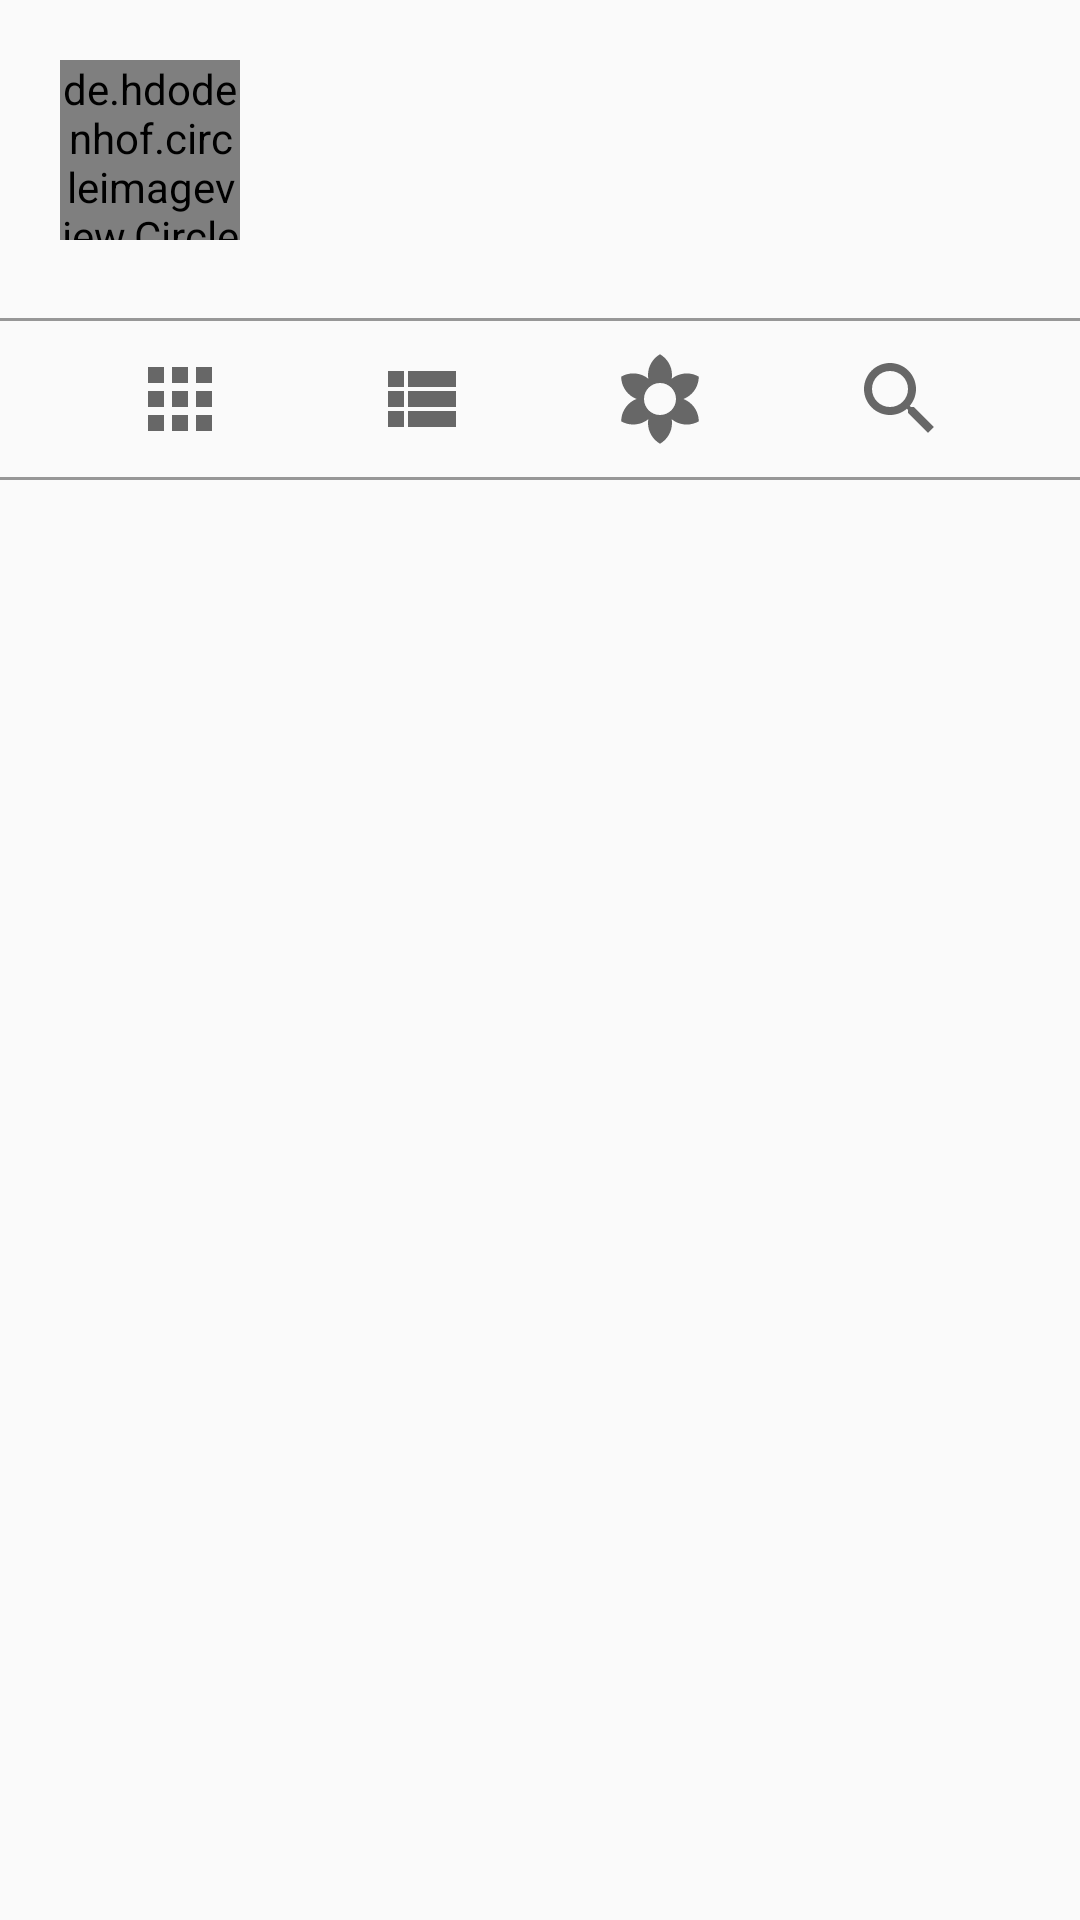

Point at icon controls on the screen. Image size 1080px×1920px, points as (x=x, y=y).
profile menu grid off: (x=180, y=399)
profile menu list off: (x=422, y=399)
profile menu search off: (x=899, y=398)
